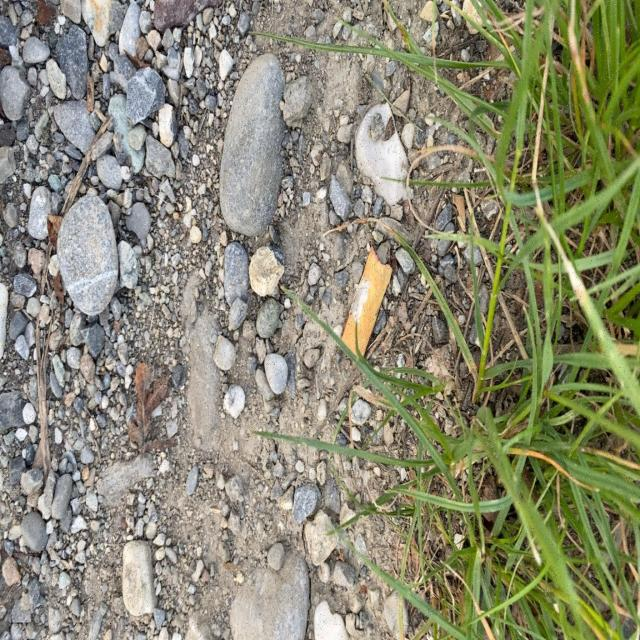other waste: (341, 244, 394, 360)
